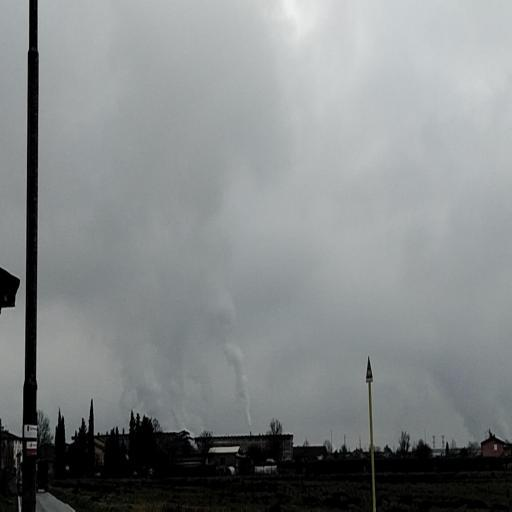leakage: (65, 200, 258, 459)
